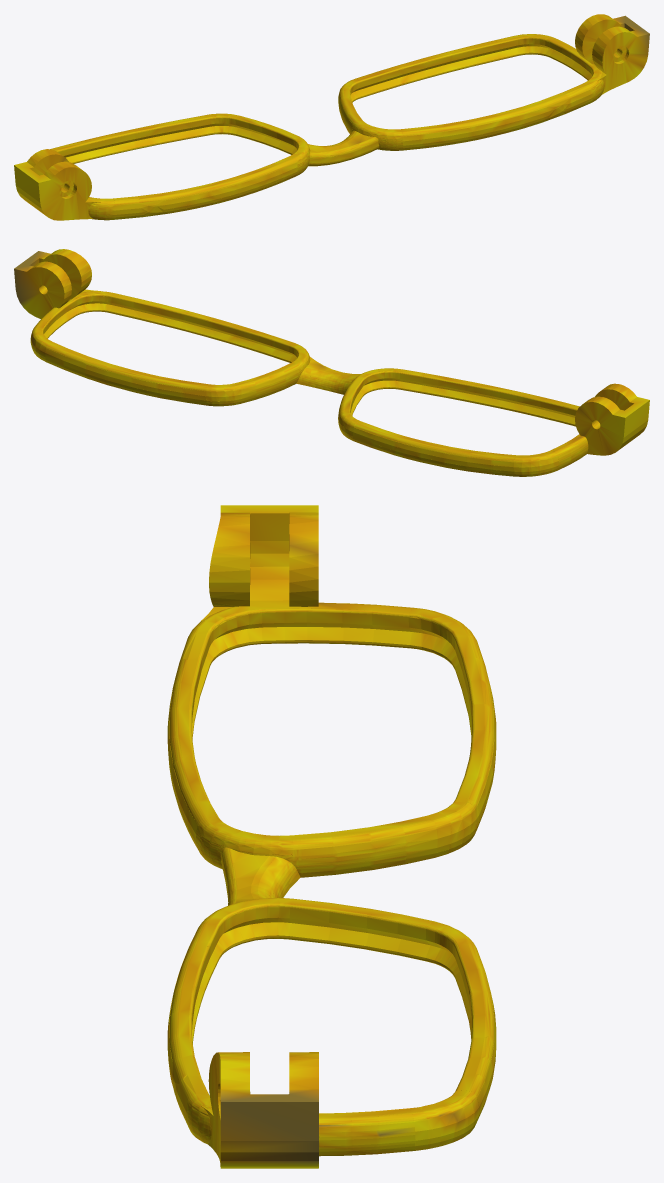
The model's file is eyeglass1_final100.obj.
3 renders of one model, top to bottom at view 1: azimuth 30°, elevation 25°; view 2: azimuth 150°, elevation 25°; view 3: azimuth 270°, elevation 25°, orthographic. The views are drawn at different scales.
Size of the model in its own units: 1.97 by 0.2015 by 0.4584.
